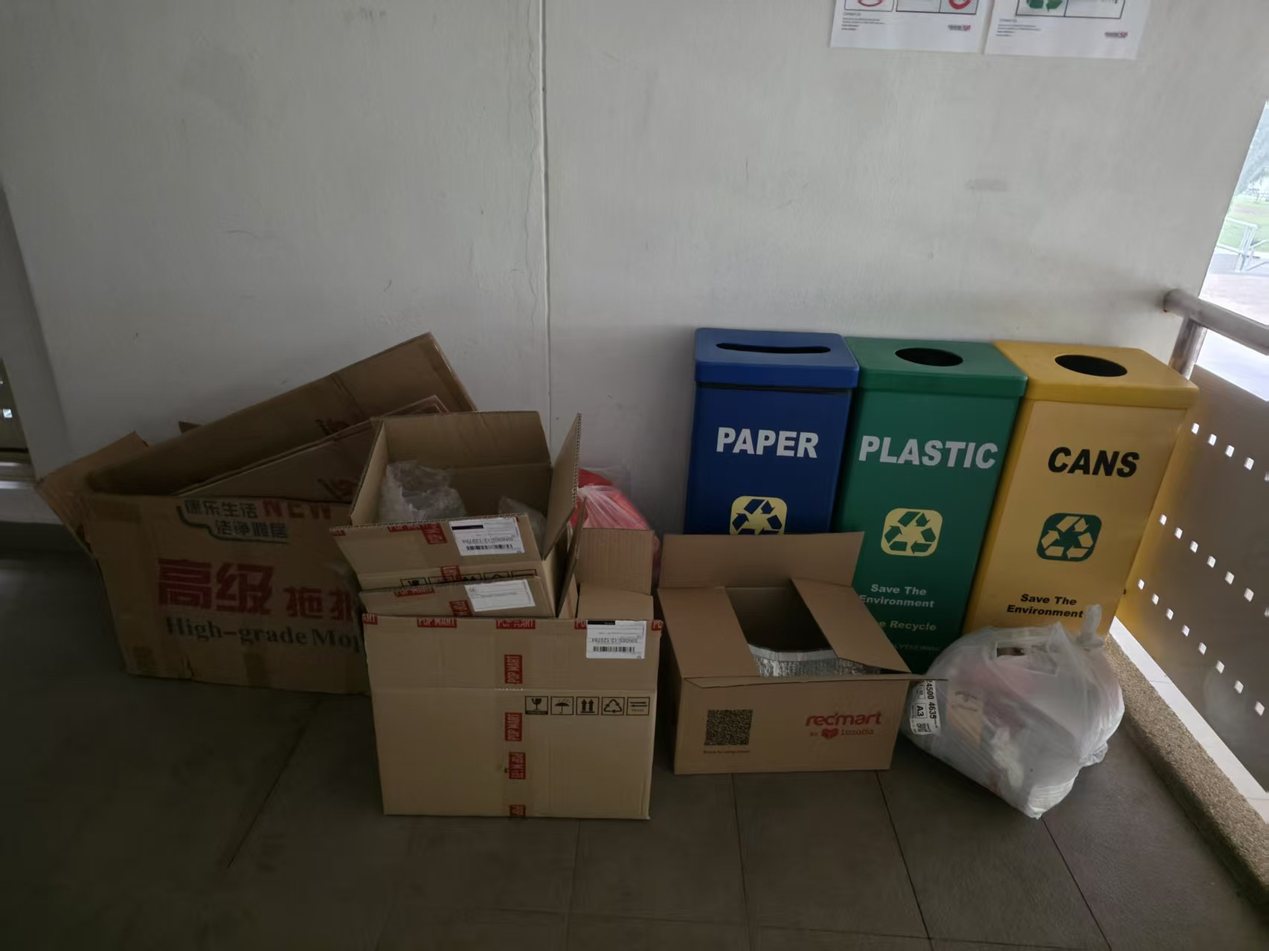bin_empty: (963, 341, 1197, 635), (832, 335, 1027, 672), (684, 328, 859, 535)
bulk_waste: (42, 334, 476, 693), (363, 582, 661, 819), (658, 533, 918, 774), (332, 412, 579, 618)
normal_waste: (902, 605, 1124, 818), (579, 477, 650, 529)
